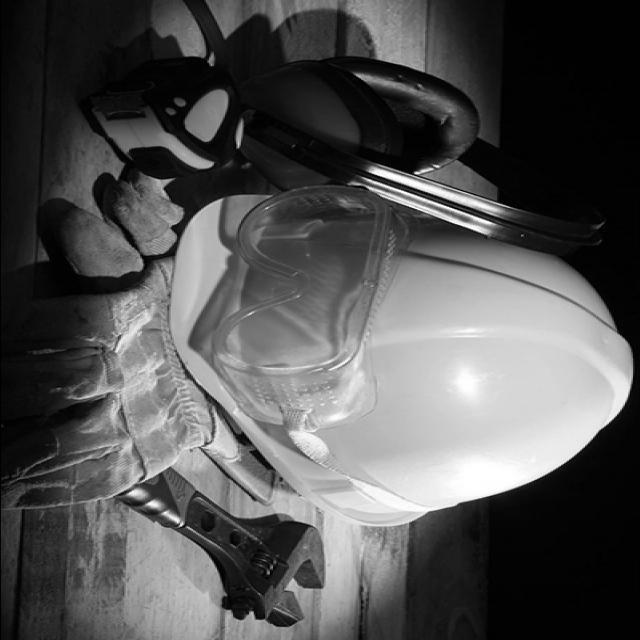safety_helmet: (168, 182, 632, 527)
